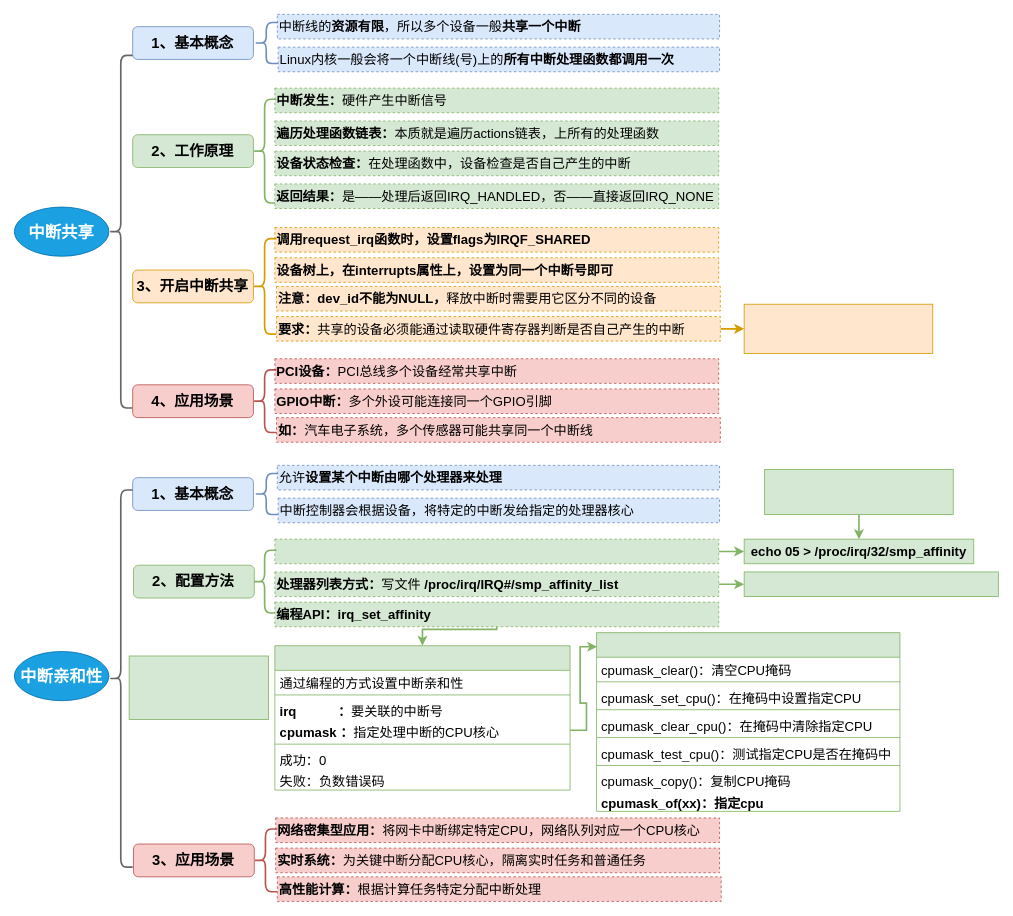
Some shapes in this 1013 by 916 pixel diagram are drawn without their labels. The box of each missing label's shape, as (x1, y1, x2, y2) in pixels:
1. 先注册中断处理函数 2. 再设置CPU亲和性: (128, 655, 269, 720)
cpu掩码操作: (596, 632, 900, 811)
echo 0,2 > /proc/irq/32/smp_affinity_list: (743, 571, 998, 597)
irq_set_affinity: (274, 645, 570, 790)
位掩码方式： 写文件 /proc/irq/IRQ#/smp_affinity: (274, 538, 719, 564)
假设4个CPU核心 让中断32只在0和2上处理: (764, 469, 953, 515)
所以共享的中断处理函数 必须先检查是否本设备中断: (743, 303, 933, 353)
